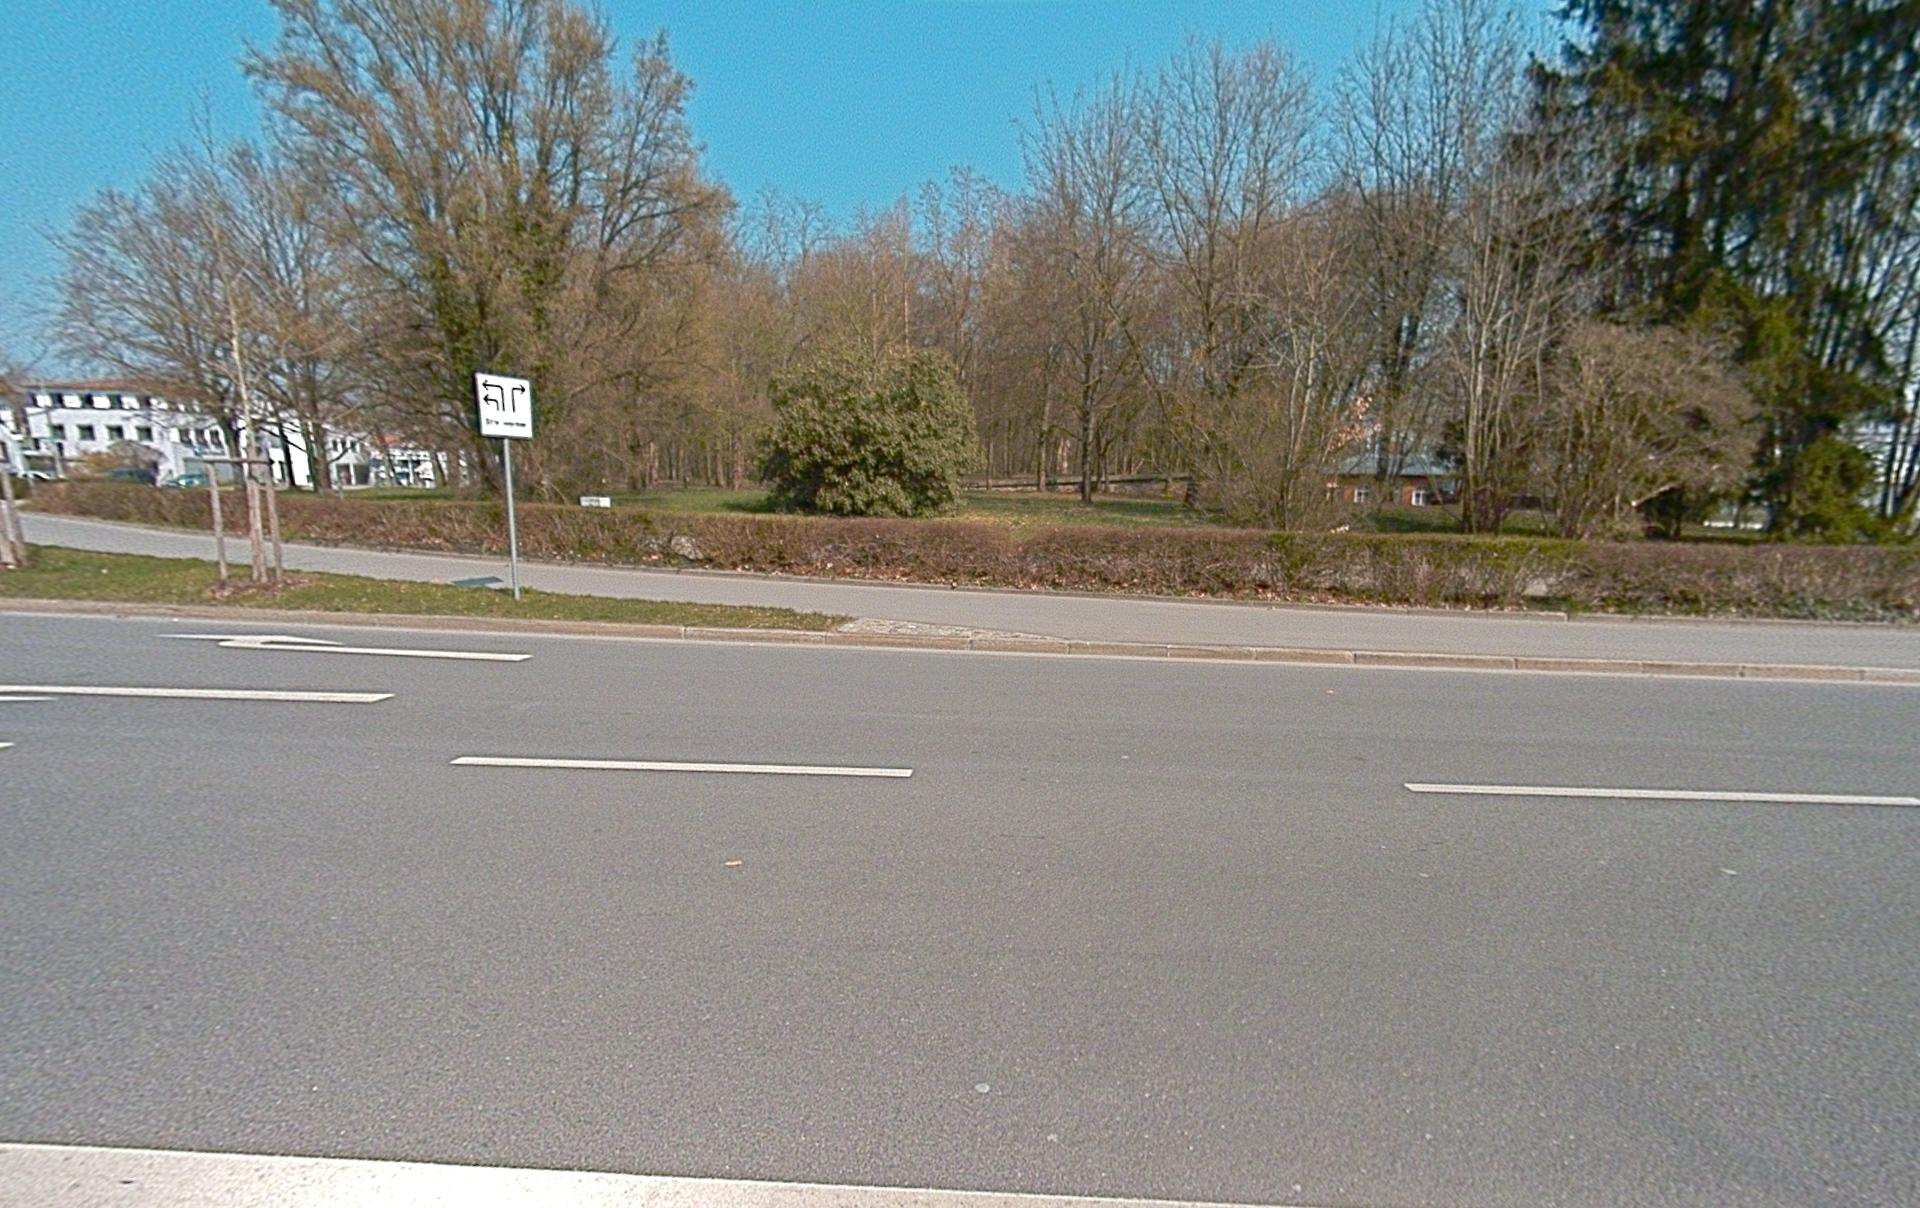car: (107, 466, 156, 486)
traffic sign: (474, 372, 534, 440)
